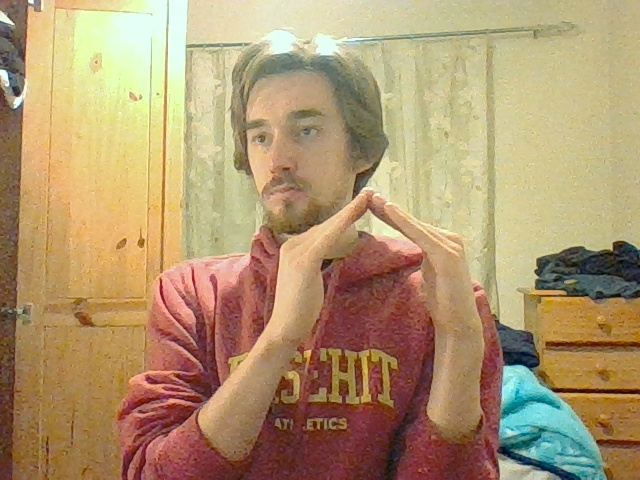home: (280, 187, 466, 285)
